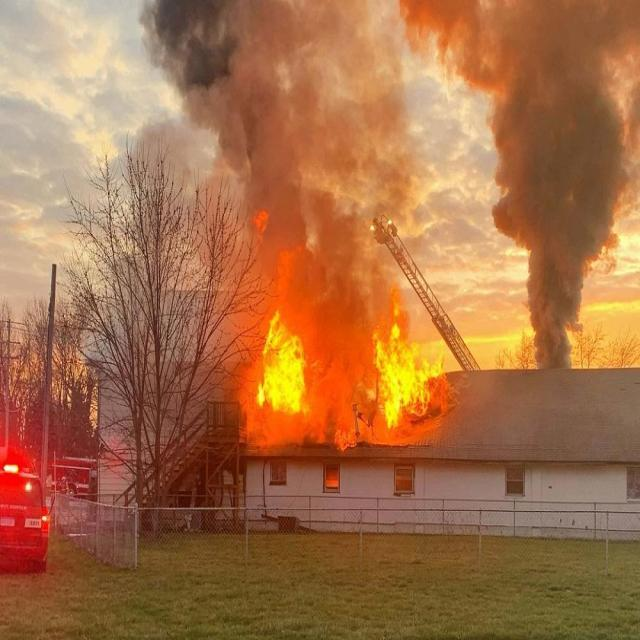Fire: (230, 207, 446, 448)
Smoke: (130, 2, 640, 369)
